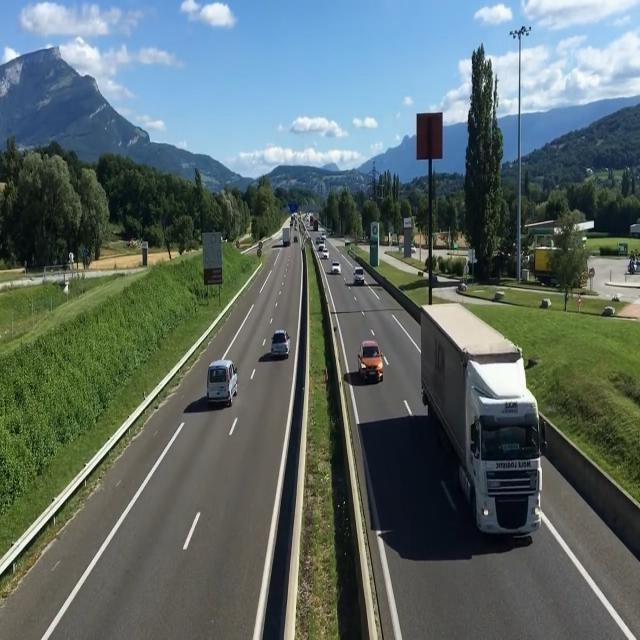Car: (356, 341, 386, 385), (270, 330, 292, 359), (331, 260, 342, 275), (322, 247, 331, 259)
Truck: (420, 302, 551, 544), (282, 227, 290, 247)
Van: (204, 359, 240, 407), (352, 267, 366, 285)
